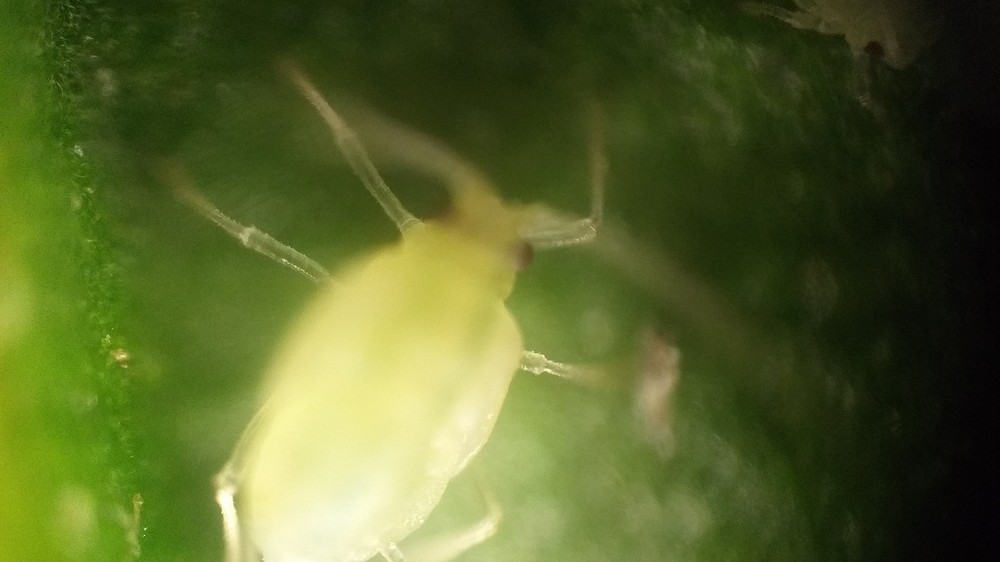Pulgon: (121, 68, 637, 562)
